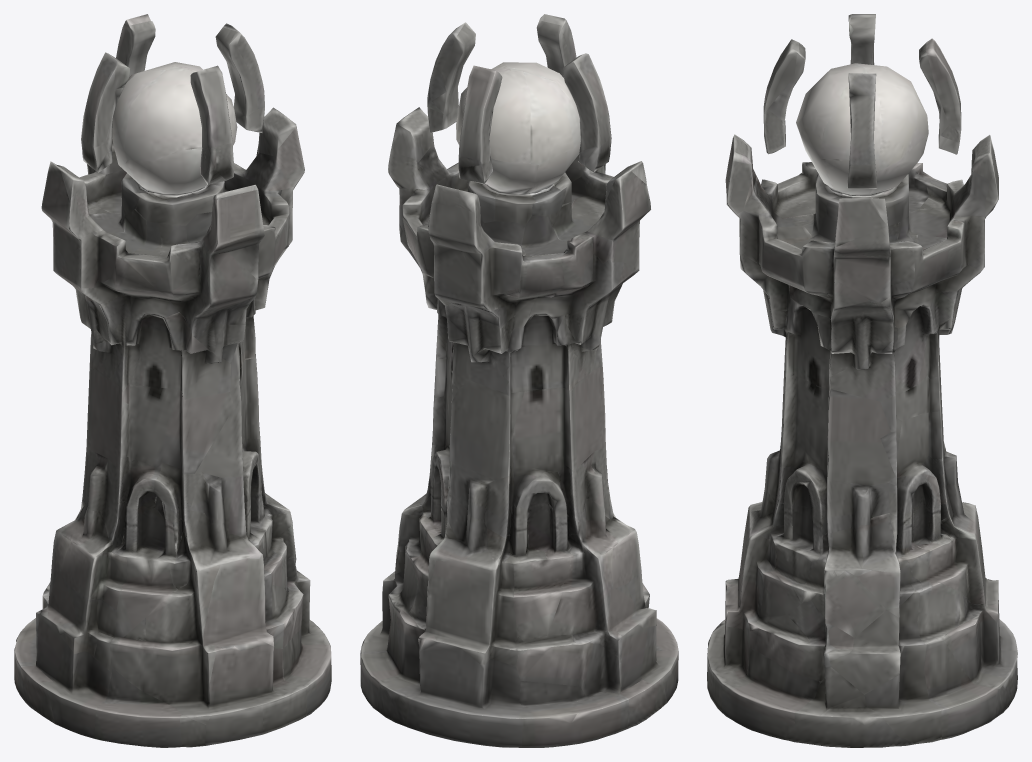
The model's file is tower.glb.
3 views of the same model, side by side, from view 1: azimuth 30°, elevation 25°; view 2: azimuth 150°, elevation 25°; view 3: azimuth 270°, elevation 25° (orthographic).
Bounding box in the file's own units: 0.8386 × 1.9 × 0.8376.
1 material, 1 textured.
